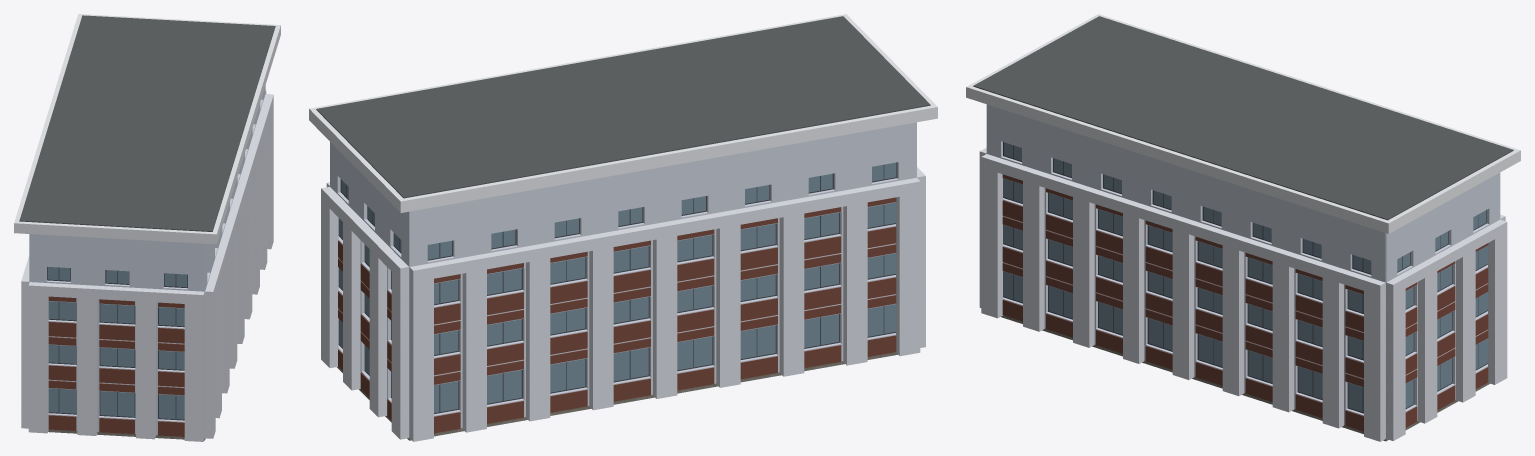
3 renders of one model, left to right at view 1: azimuth 30°, elevation 25°; view 2: azimuth 150°, elevation 25°; view 3: azimuth 270°, elevation 25°, orthographic. The views are drawn at different scales.
Visible parts, largest first — view 1: solgeo-2__darkroof, solgeo-2__pier, solgeo-2__white, solgeo-2__glass, solgeo-2__spandrel2, solgeo-2__fascia, solgeo-2__darkframe, solgeo-2__stone; view 2: solgeo-2__pier, solgeo-2__darkroof, solgeo-2__white, solgeo-2__spandrel2, solgeo-2__glass, solgeo-2__fascia, solgeo-2__darkframe, solgeo-2__stone; view 3: solgeo-2__pier, solgeo-2__darkroof, solgeo-2__white, solgeo-2__spandrel2, solgeo-2__glass, solgeo-2__fascia, solgeo-2__darkframe, solgeo-2__stone.
Part boxes in pixels (<box>): solgeo-2__darkroof: <box>19,15,275,231</box>; solgeo-2__pier: <box>21,90,273,441</box>; solgeo-2__white: <box>29,85,265,437</box>; solgeo-2__glass: <box>47,267,187,419</box>; solgeo-2__spandrel2: <box>48,296,184,436</box>; solgeo-2__fascia: <box>14,14,280,244</box>; solgeo-2__darkframe: <box>47,267,187,420</box>; solgeo-2__stone: <box>48,429,205,440</box>; solgeo-2__pier: <box>321,167,925,441</box>; solgeo-2__darkroof: <box>316,16,930,198</box>; solgeo-2__white: <box>330,122,916,437</box>; solgeo-2__spandrel2: <box>338,197,896,433</box>; solgeo-2__glass: <box>338,162,896,412</box>; solgeo-2__fascia: <box>309,14,937,212</box>; solgeo-2__darkframe: <box>338,162,897,413</box>; solgeo-2__stone: <box>337,352,897,440</box>; solgeo-2__pier: <box>979,148,1507,441</box>; solgeo-2__darkroof: <box>973,16,1513,220</box>; solgeo-2__white: <box>986,104,1500,437</box>; solgeo-2__spandrel2: <box>1002,174,1488,431</box>; solgeo-2__glass: <box>1003,142,1487,412</box>; solgeo-2__fascia: <box>966,14,1520,233</box>; solgeo-2__darkframe: <box>1003,142,1487,413</box>; solgeo-2__stone: <box>1001,315,1489,441</box>.
Size of the model in its own units: 33.9 by 17.17 by 37.93.
9 materials, 3 textured.
